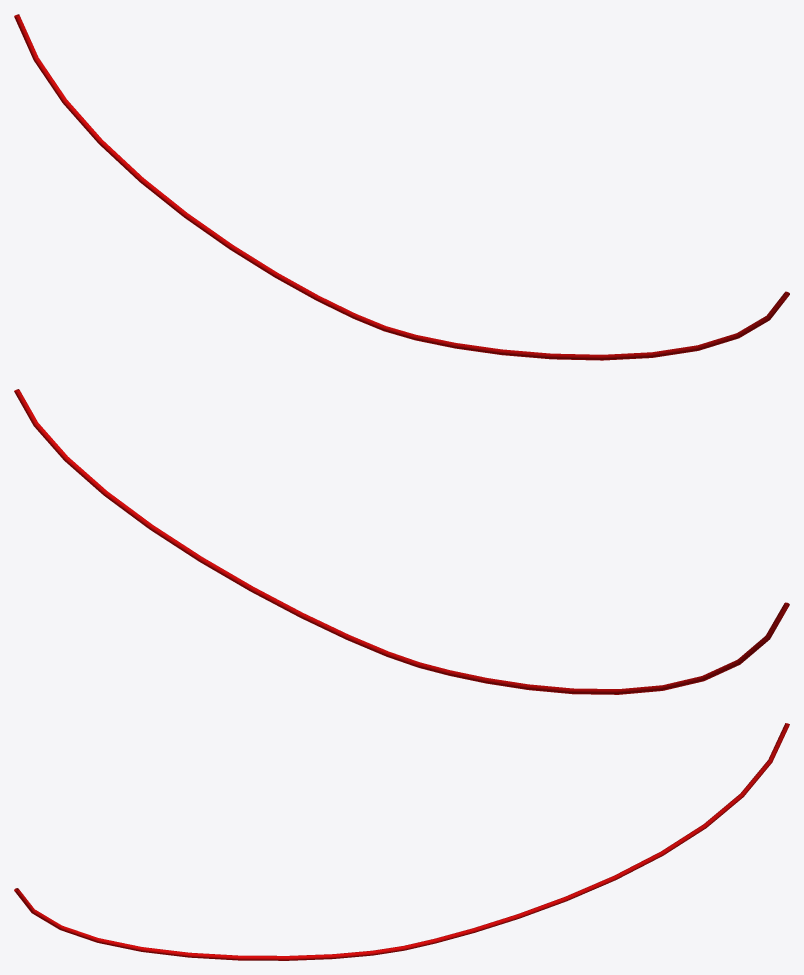
The model's file is Attic_Cable_01_LP_Splines_18.glb.
3 views of the same model, one above another, from view 1: azimuth 30°, elevation 25°; view 2: azimuth 210°, elevation 25°; view 3: azimuth 270°, elevation 25° (orthographic). The views are drawn at different scales.
Parts seen in each view (by area): view 1: Attic_Cable_01_LP_Splines_18; view 2: Attic_Cable_01_LP_Splines_18; view 3: Attic_Cable_01_LP_Splines_18.
Part boxes in pixels (x1=…): Attic_Cable_01_LP_Splines_18: x1=14, y1=14, x2=789, y2=360; Attic_Cable_01_LP_Splines_18: x1=14, y1=389, x2=789, y2=694; Attic_Cable_01_LP_Splines_18: x1=14, y1=723, x2=789, y2=960.
Size of the model in its own units: 1.38 by 0.7605 by 3.24.
